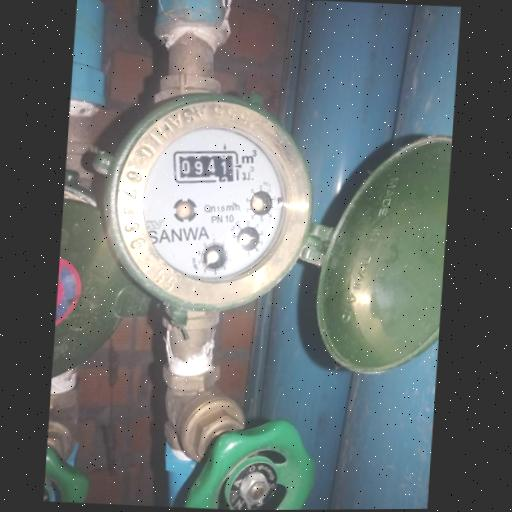0: (178, 154, 194, 179)
1: (216, 154, 234, 182)
4: (203, 154, 219, 177)
9: (191, 154, 207, 179)
border_water_meter_number: (171, 145, 243, 187)
